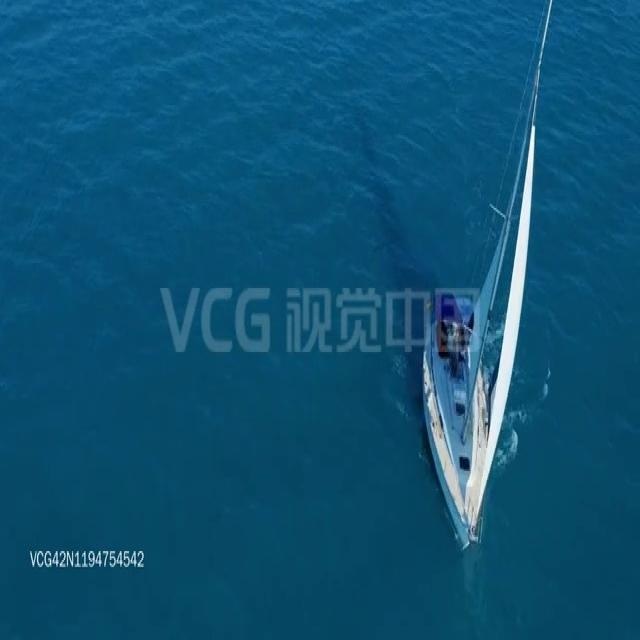sailboat: (413, 0, 558, 553)
